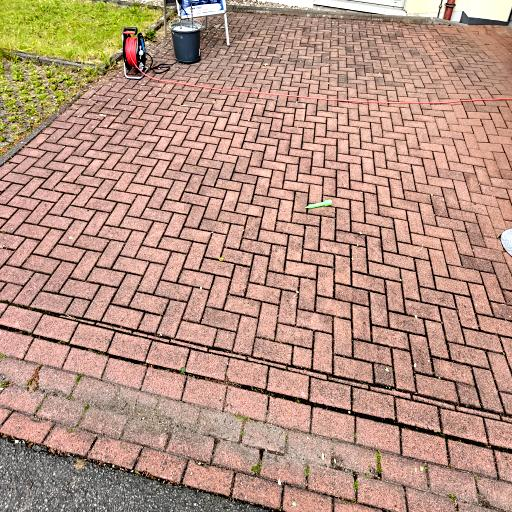Probe-Detection: (306, 200, 332, 209)
